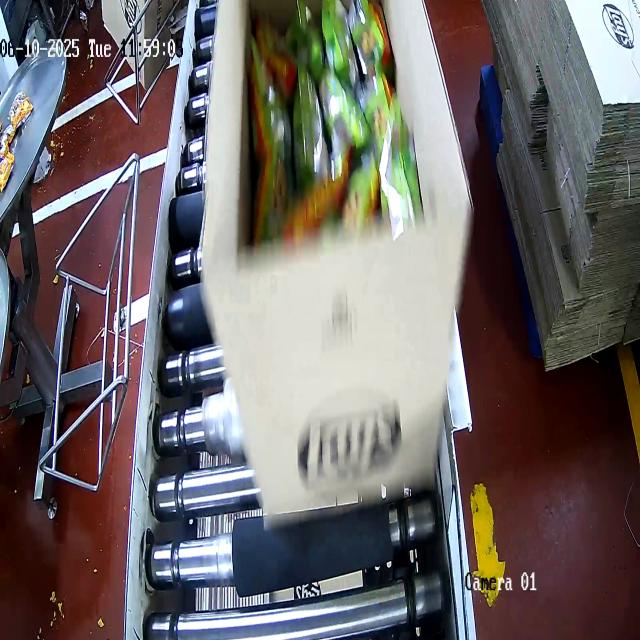YOGURT_HERB: (248, 0, 399, 237)
